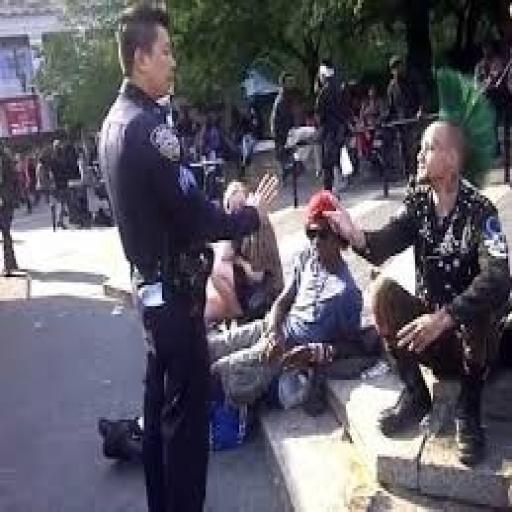sitting: (320, 116, 510, 465), (204, 188, 366, 414)
